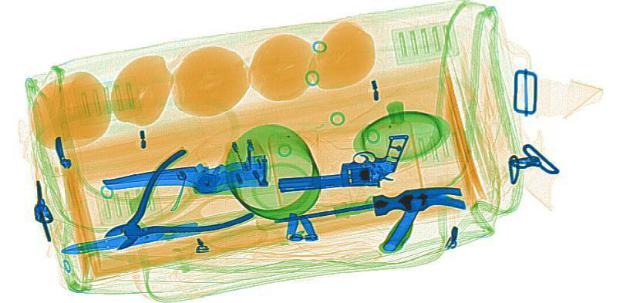Gun: (260, 133, 426, 192)
Pliers: (36, 147, 300, 262)
